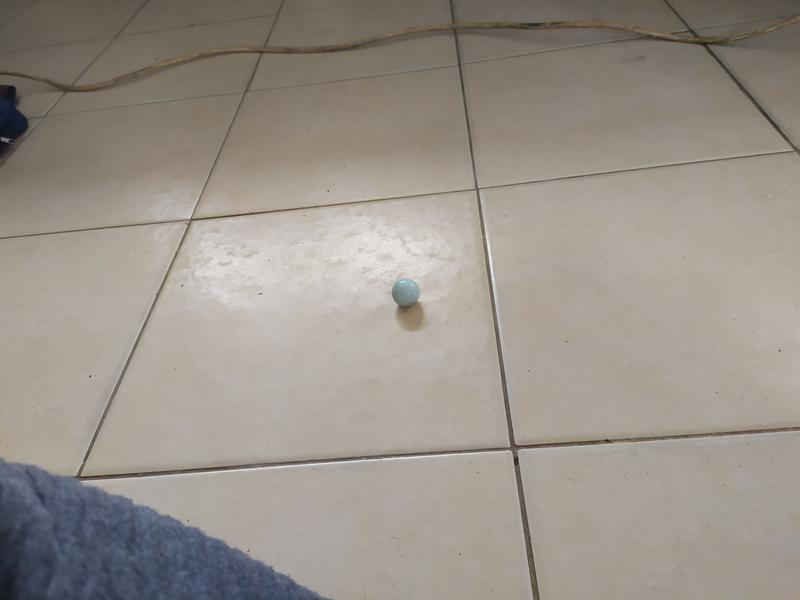Warning: (390, 277, 422, 309)
